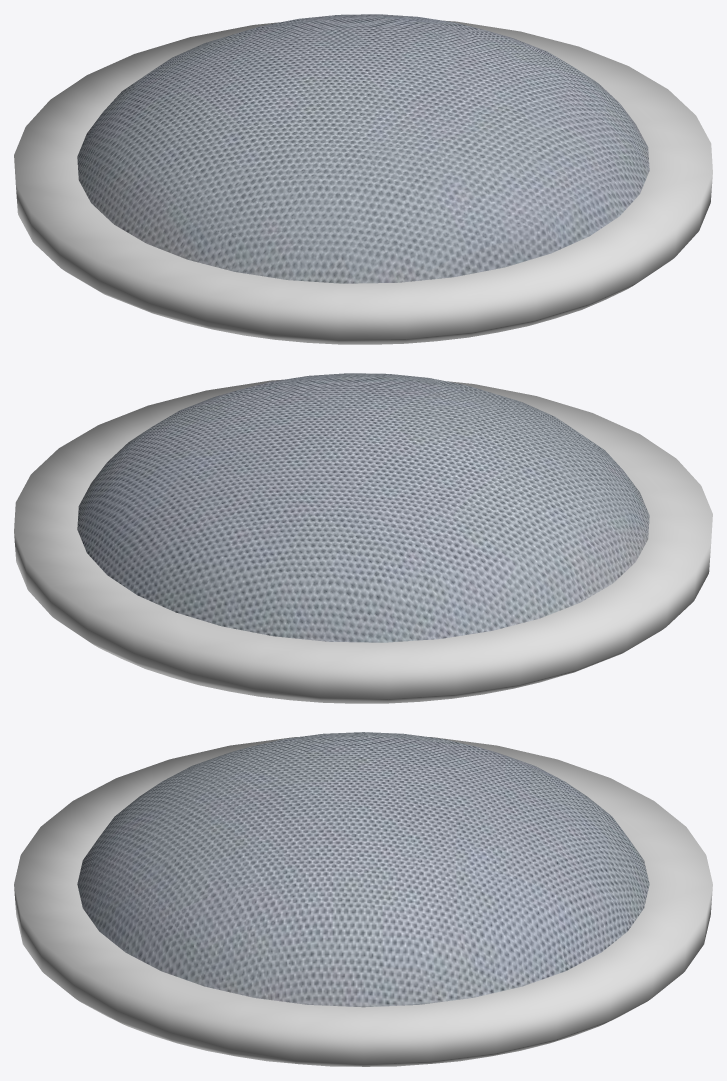
File: speakora.fbx
3 views of the same model, one above another, from view 1: azimuth 30°, elevation 25°; view 2: azimuth 150°, elevation 25°; view 3: azimuth 270°, elevation 25° (orthographic).
Visible parts, largest first — view 1: Sphere.001, a; view 2: Sphere.001, a; view 3: Sphere.001, a.
Part boxes in pixels (x1,y1,x2,y2): Sphere.001: (77, 14, 649, 283); a: (14, 20, 712, 344); Sphere.001: (77, 373, 649, 642); a: (14, 379, 712, 703); Sphere.001: (77, 732, 649, 1007); a: (14, 737, 712, 1066).
Size of the model in its own units: 558 by 184 by 549.
